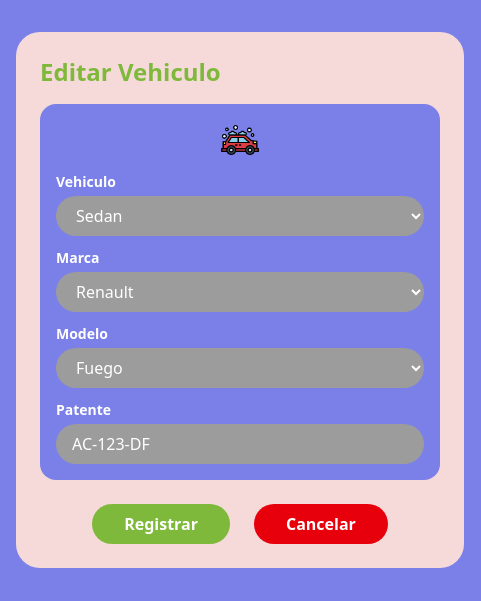
EditarVehiculoPage › ante un error de guardado advierte y no navega
Expected: the heading "Editar Vehiculo" is shown, [40,55,221,88]
Click the button "Registrar": (161, 524) [92,504,230,544]
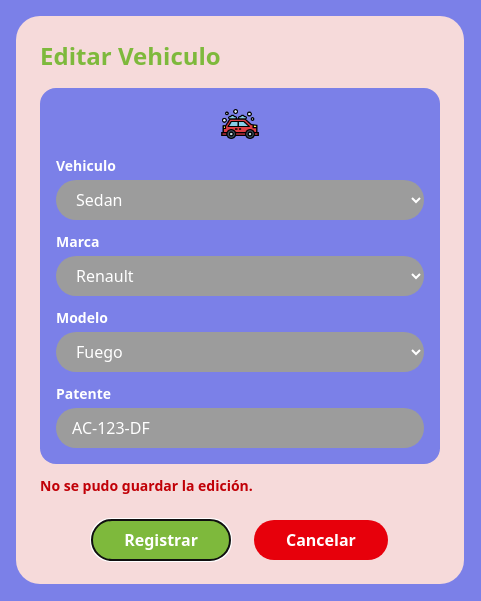
Expected: the message reads "No se pudo guardar la edición.", [40,476,253,495]
